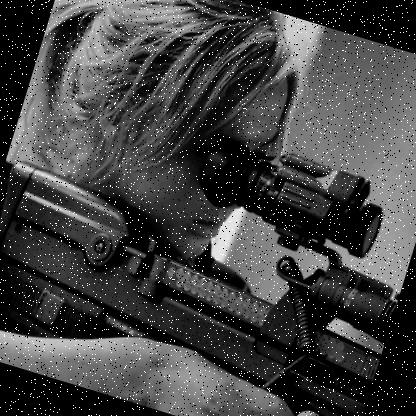rifle: (0, 84, 416, 416)
